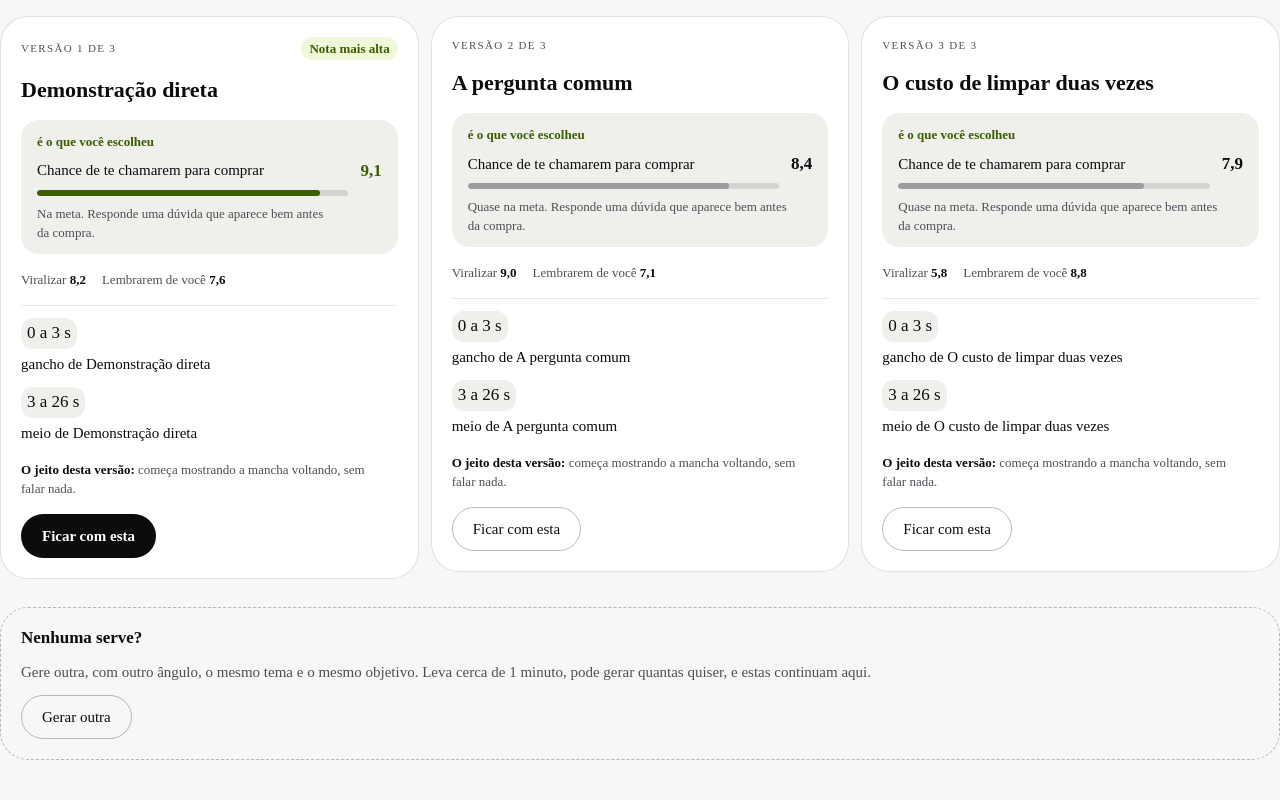
Test: Gerar outra › o erro volta como frase na tela e as versões que já havia continuam
(page scrolled)
Step 1. Click the button "Gerar outra" → (76, 717), box 21,695 -> 132,739
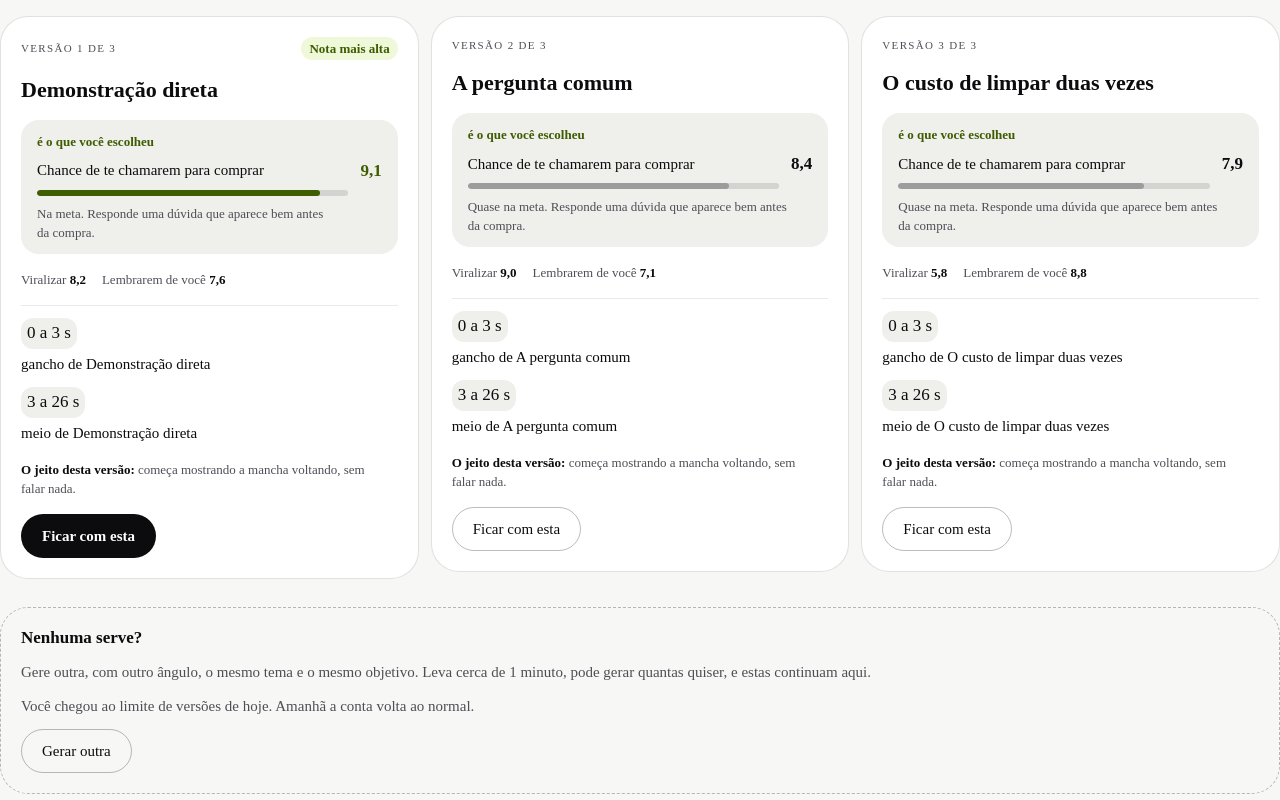
expect the text "Você chegou ao limite de versões de hoje. Amanhã a conta volta ao normal." is shown: met, box 21,695 -> 474,717
